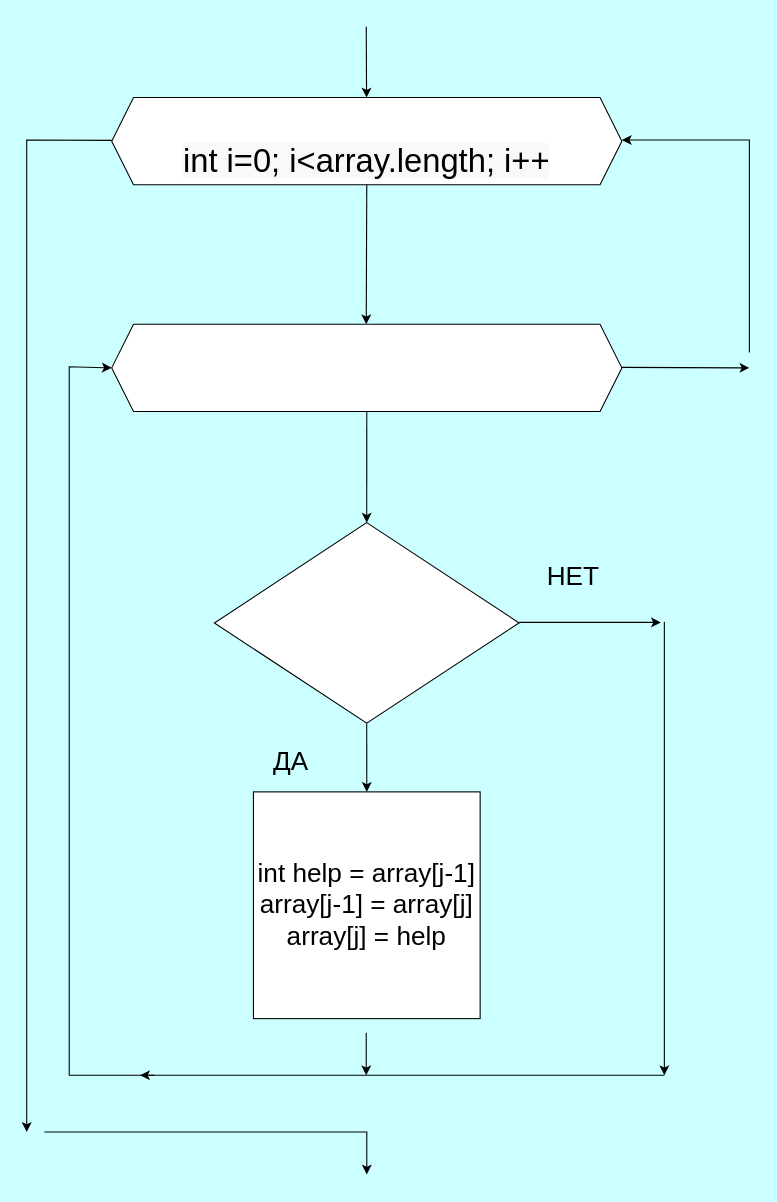
The diagram is 777 pixels wide and 1202 high, and some of its shapes have lost their labels. The box of each missing label's shape, as (x1, y1, x2, y2) in pixels:
array[j-1] >array[j]: (213, 522, 519, 723)
j= length-1; j>i; j--: (111, 323, 622, 411)
